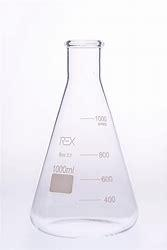Titrarion: (37, 34, 138, 239)
